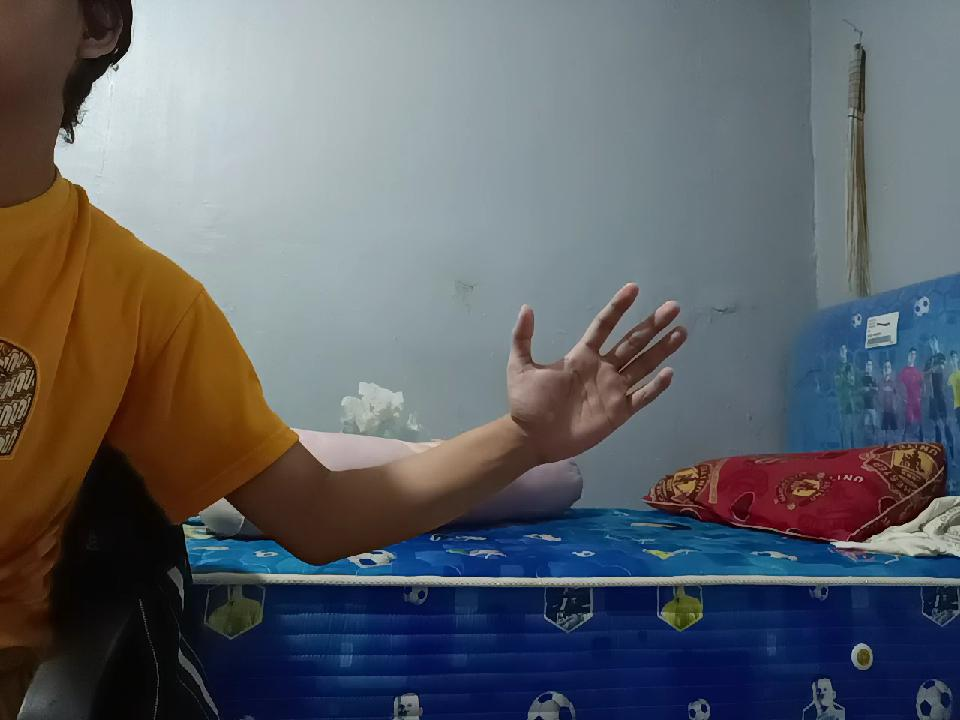paper: (491, 270, 674, 463)
